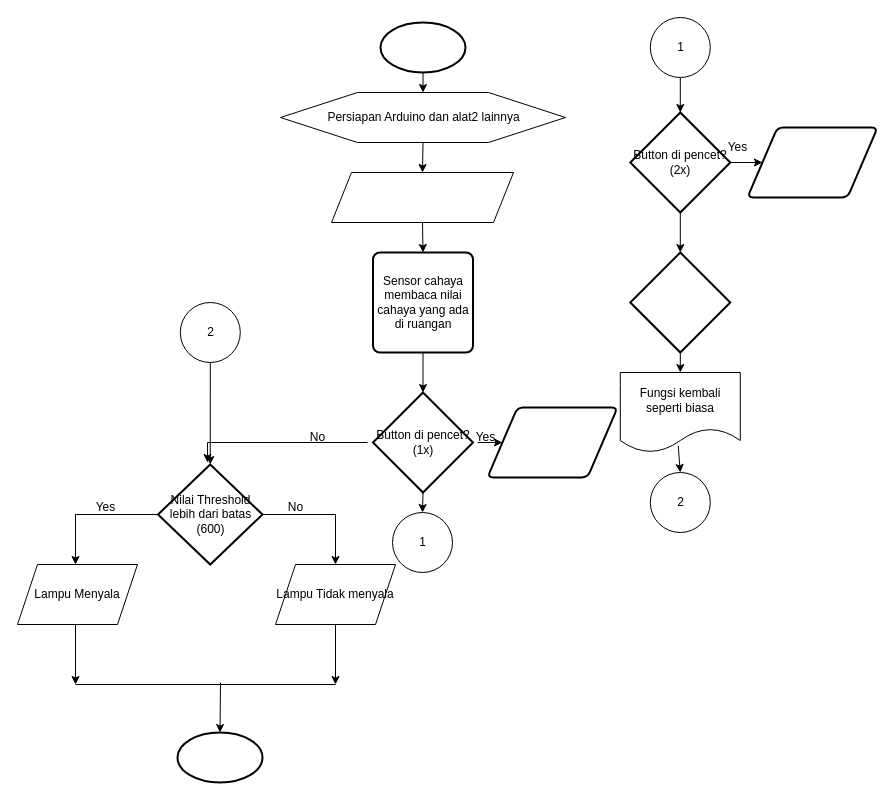
Some shapes in this 896 by 801 pixel diagram are drawn without their labels. Here are the shapes that lost their labels. From the top down, the centre of each, then its label:
point (422, 47): Start
point (812, 162): Lampu mati, sensor cahaya mati
point (422, 197): Arduino dan Alat2 lainnya, terutama sensor cahaya dan button
point (680, 302): Button di pencet? (3x)
point (552, 442): Lampu nyala, sensor cahaya mati
point (219, 757): Stop
